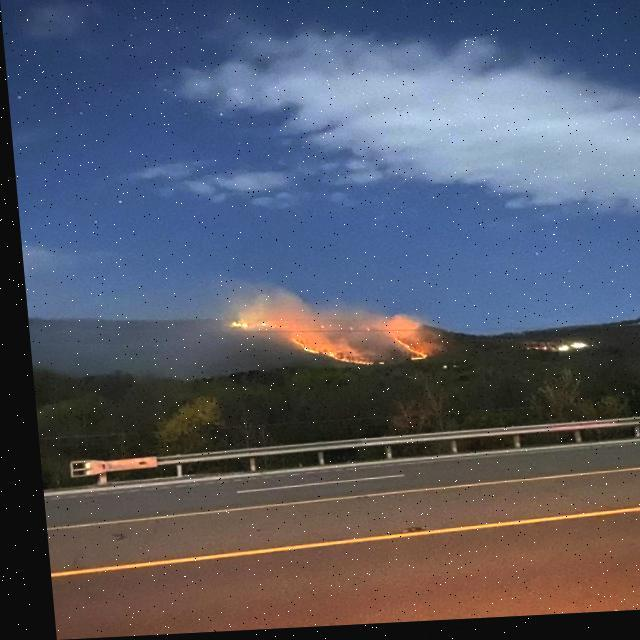Fire: (285, 338, 368, 372), (382, 334, 422, 366), (225, 321, 247, 332)
